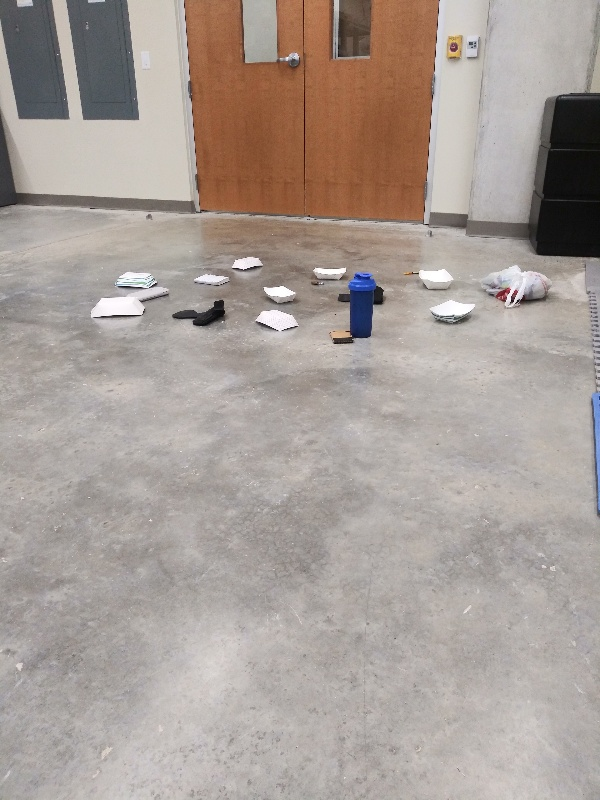plate: (87, 292, 146, 325), (425, 297, 481, 326), (252, 306, 303, 330), (112, 266, 158, 291), (412, 265, 455, 291), (259, 282, 302, 307), (307, 260, 351, 283), (229, 250, 269, 273)
